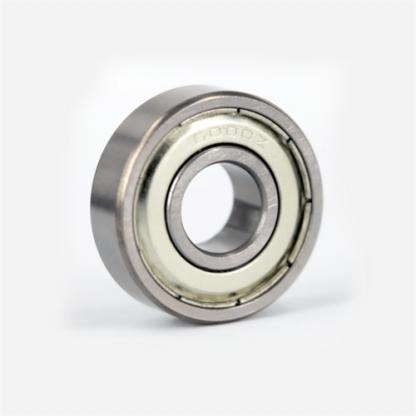FOD: (84, 80, 325, 328)
